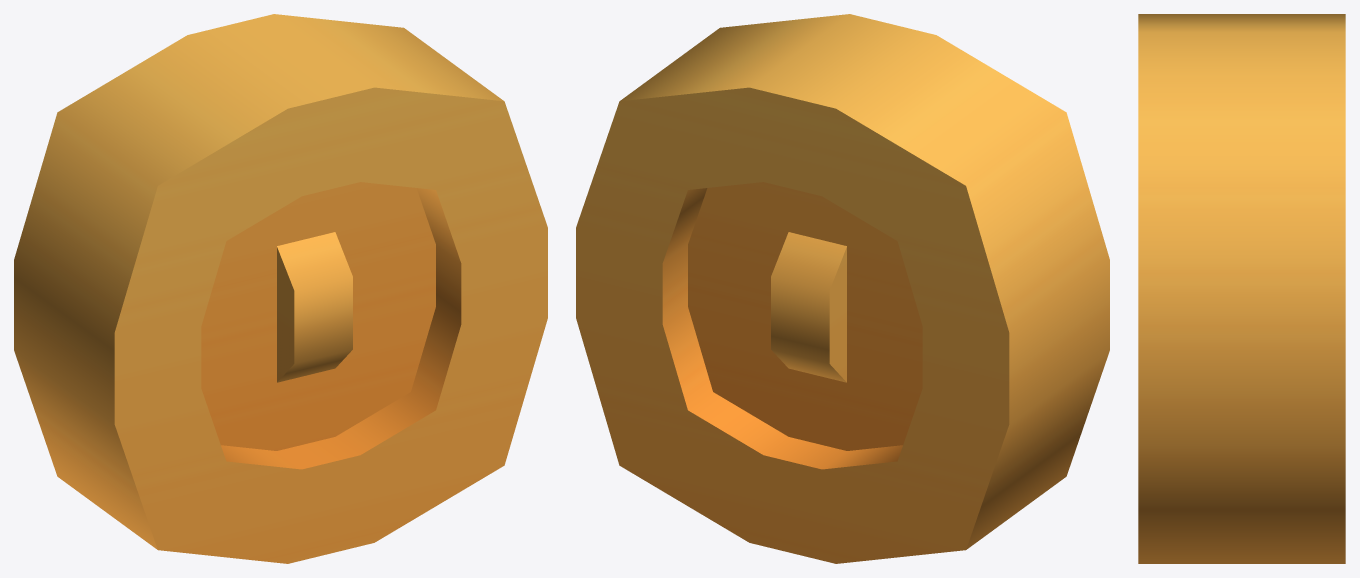
File: coin.fbx
The picture shows the model from 3 angles, left to right: view 1: azimuth 30°, elevation 25°; view 2: azimuth 150°, elevation 25°; view 3: azimuth 270°, elevation 25°; orthographic projection. The views are drawn at different scales.
Visible parts, largest first — view 1: coin; view 2: coin; view 3: coin.
Boxes of the visible parts, left/top/right/bottom form: coin: left=14, top=14, right=547, bottom=563; coin: left=576, top=14, right=1109, bottom=563; coin: left=1138, top=14, right=1345, bottom=563.
Size of the model in its own units: 41.5 by 41.67 by 16.67.
